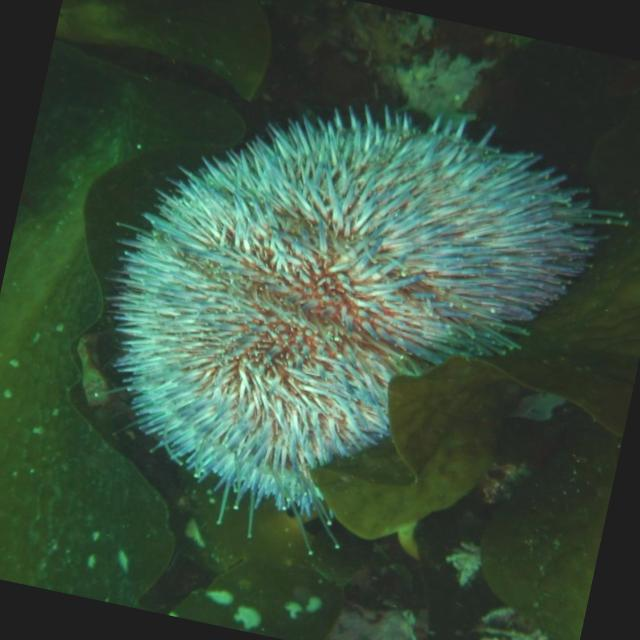Deniz Kestanesi: (56, 51, 640, 606)
